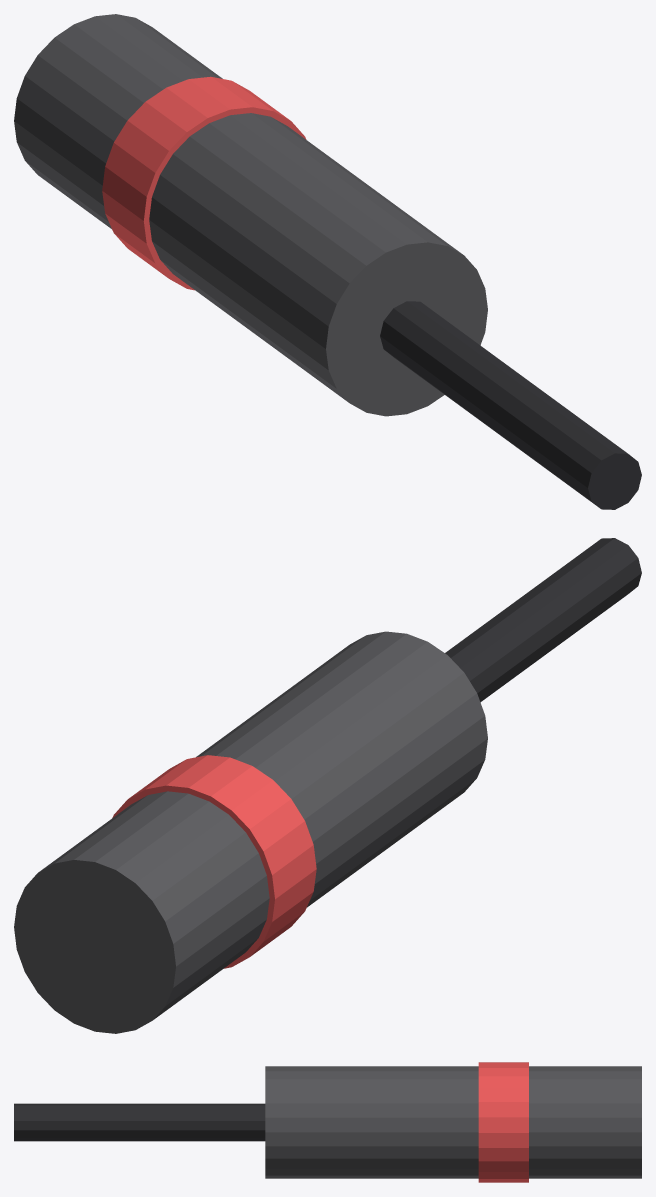
File: mc4-female.glb
3 renders of one model, top to bottom at view 1: azimuth 30°, elevation 25°; view 2: azimuth 150°, elevation 25°; view 3: azimuth 270°, elevation 25°, orthographic. The views are drawn at different scales.
Parts seen in each view (by area): view 1: plug_body, cable, plug_band; view 2: plug_body, cable, plug_band; view 3: plug_body, cable, plug_band.
Boxes of the visible parts, bbox=[...] form: plug_body: bbox=[14, 14, 487, 416]; cable: bbox=[380, 301, 641, 509]; plug_band: bbox=[102, 76, 306, 290]; plug_body: bbox=[14, 631, 487, 1033]; cable: bbox=[445, 538, 641, 702]; plug_band: bbox=[112, 755, 316, 968]; plug_body: bbox=[265, 1066, 641, 1178]; cable: bbox=[14, 1103, 265, 1141]; plug_band: bbox=[478, 1062, 528, 1182].
Bounding box in the file's own units: 0.0192 × 0.0192 × 0.1.
